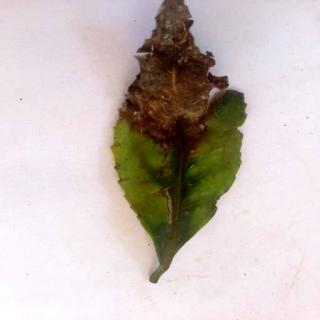Brown Blight: (111, 1, 249, 284)
